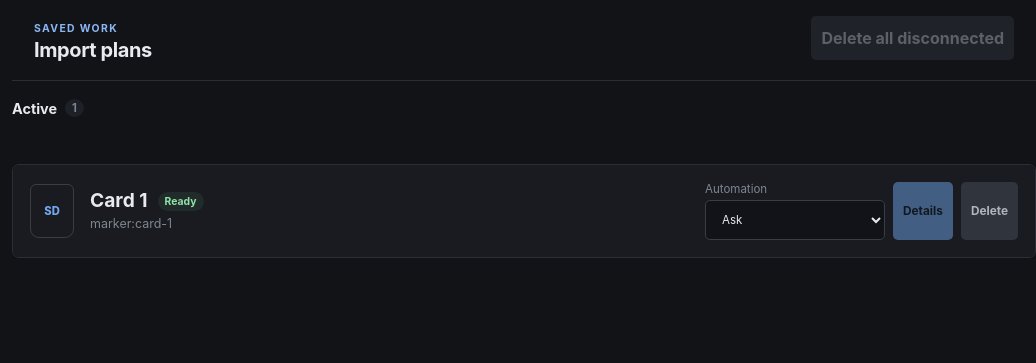
it: PlansPanel › keeps a plan visible and lets the user retry when deletion fails
Click the button "Delete" at (989, 211), box [961,182,1018,240]
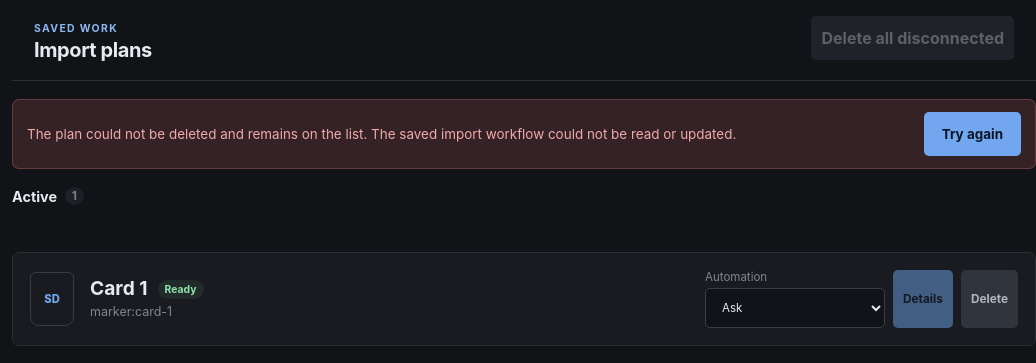
Expected: the heading "Card 1" is shown, [90,276,148,300]
Now the text "plan could not be deleted and remains on the list" is shown, box [27,126,736,142]
Click the button "Try again" at (972, 134), box [924,112,1021,156]
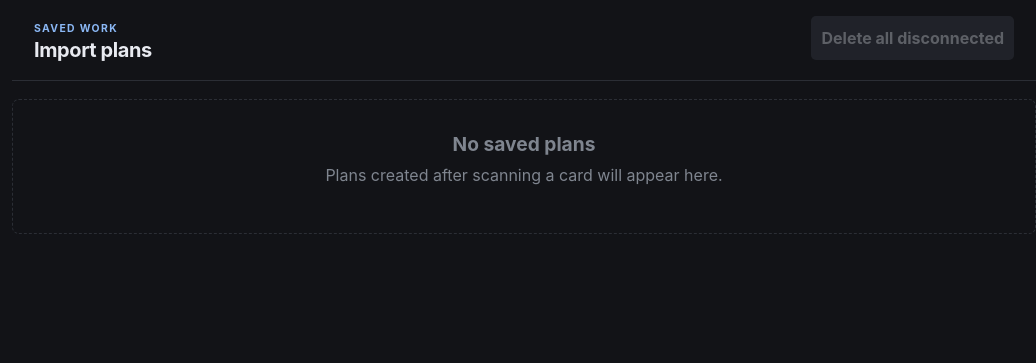
Now the heading "No saved plans" is shown, box [453,132,596,156]
